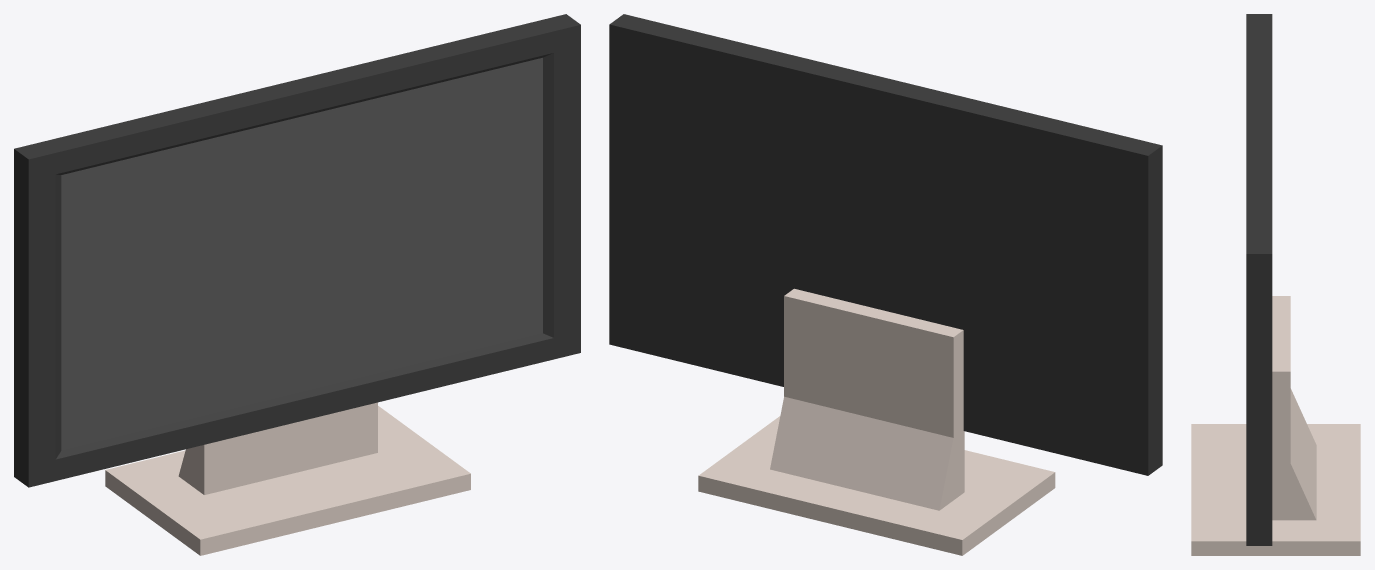
The picture shows the model from 3 angles, left to right: view 1: azimuth 30°, elevation 25°; view 2: azimuth 150°, elevation 25°; view 3: azimuth 270°, elevation 25°; orthographic projection. The views are drawn at different scales.
Visible parts, largest first — view 1: TV_1; view 2: TV_1; view 3: TV_1.
Boxes of the visible parts, left/top/right/bottom form: TV_1: left=14, top=14, right=580, bottom=555; TV_1: left=609, top=14, right=1162, bottom=555; TV_1: left=1191, top=14, right=1360, bottom=555.
Size of the model in its own units: 138 by 41.06 by 97.15.
